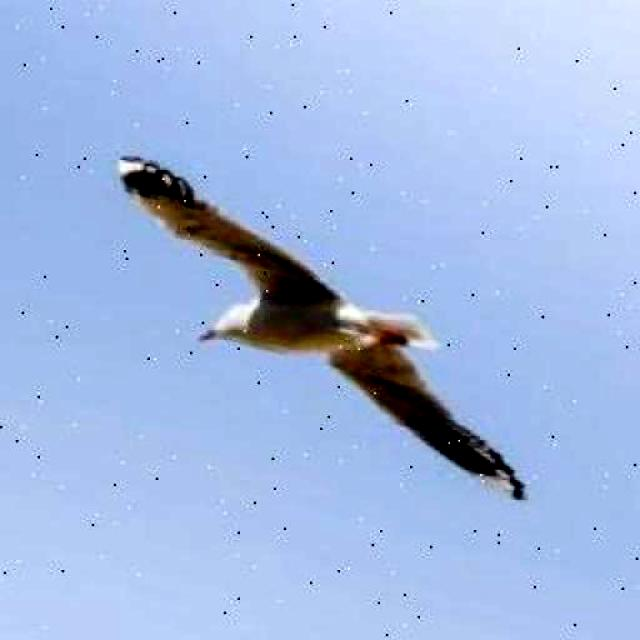airplane: (60, 151, 584, 502)
